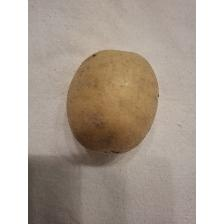Kartoffel: (64, 44, 160, 156)
